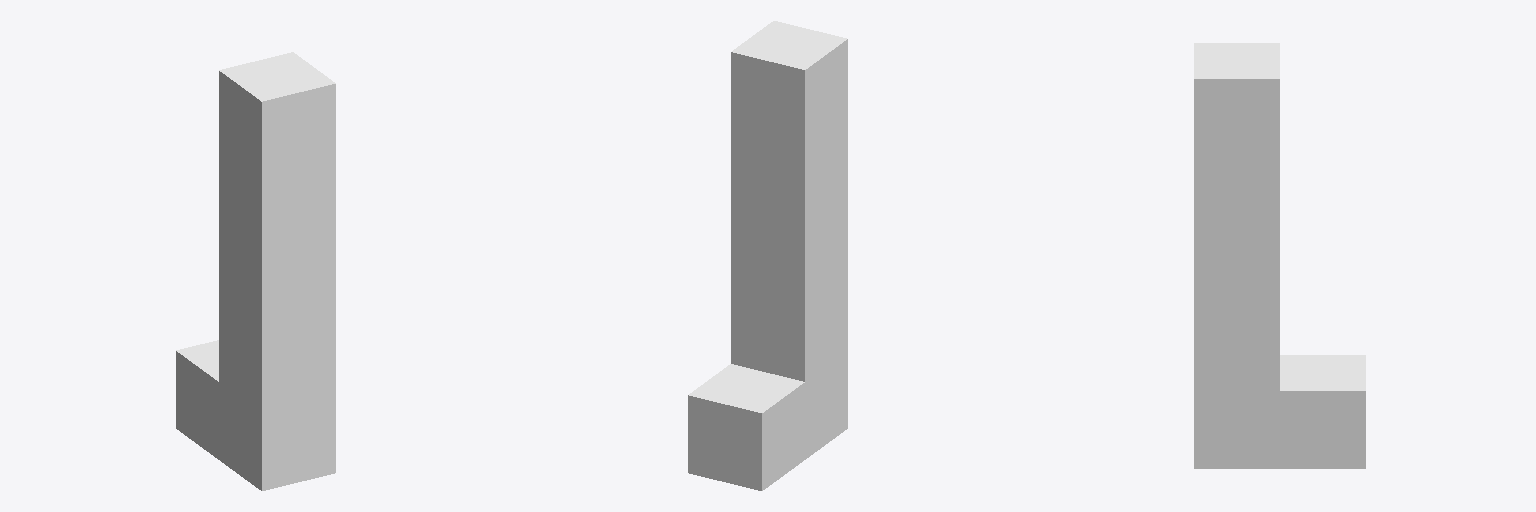
File: leg2.obj
3 renders of one model, left to right at view 1: azimuth 30°, elevation 25°; view 2: azimuth 150°, elevation 25°; view 3: azimuth 270°, elevation 25°, orthographic.
Parts seen in each view (by area): view 1: object 1; view 2: object 1; view 3: object 1.
Part boxes in pixels (bbox=[...]): object 1: bbox=[176, 52, 335, 490]; object 1: bbox=[688, 21, 847, 490]; object 1: bbox=[1194, 43, 1365, 468].
Bounding box in the file's own units: 0.2 × 1 × 0.4.